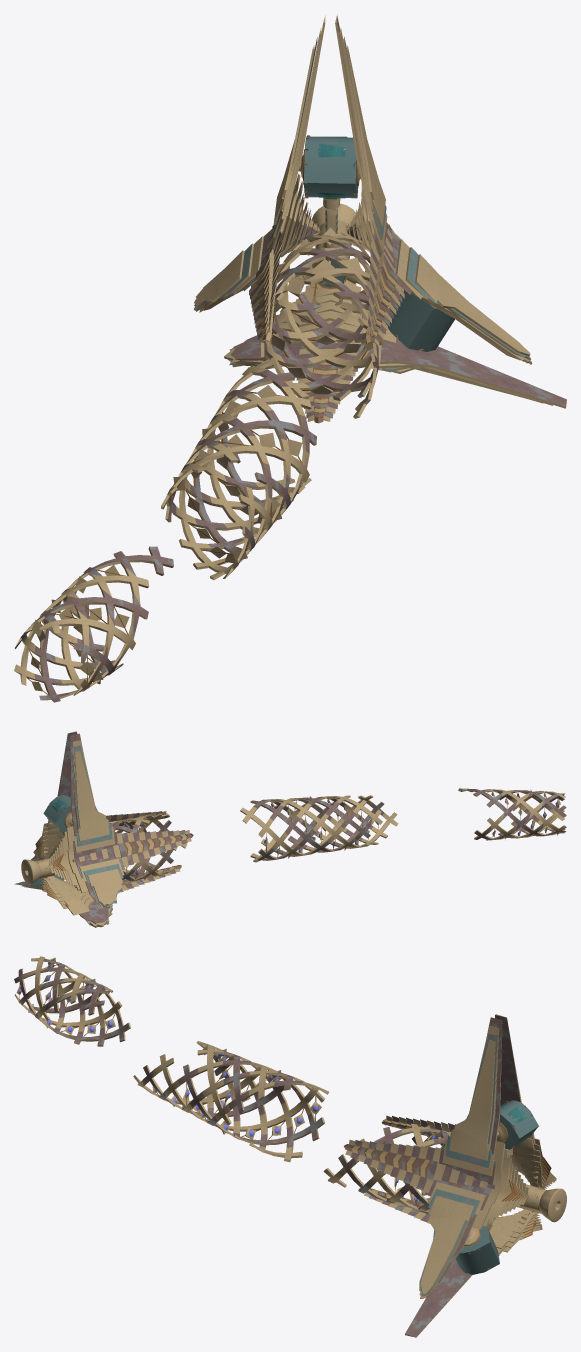
The model's file is OrbitalProbeCannon.glb.
3 views of the same model, one above another, from view 1: azimuth 30°, elevation 25°; view 2: azimuth 150°, elevation 25°; view 3: azimuth 270°, elevation 25° (orthographic). The views are drawn at different scales.
Parts seen in each view (by area): view 1: OrbitalProbeCannon; view 2: OrbitalProbeCannon; view 3: OrbitalProbeCannon.
Part boxes in pixels (box(x1,y1,x2,y2)): OrbitalProbeCannon: box(14, 15, 566, 702); OrbitalProbeCannon: box(14, 731, 566, 927); OrbitalProbeCannon: box(14, 956, 566, 1337).
Size of the model in its own units: 1.58 by 0.7078 by 1.35.
8 materials, 8 textured.
